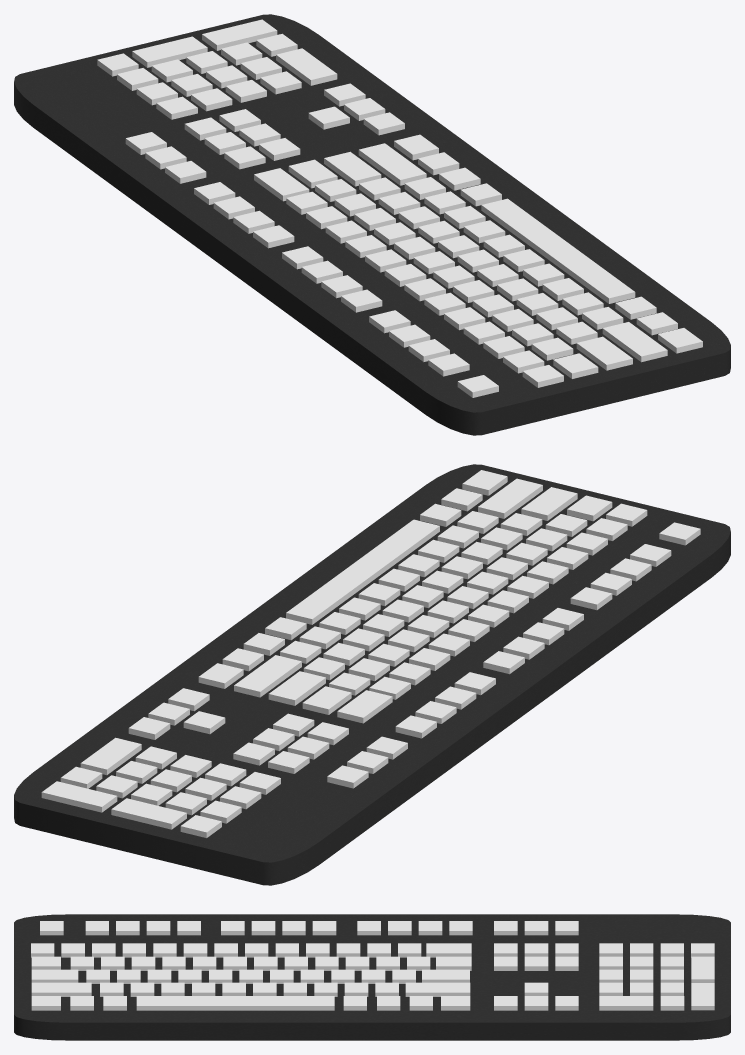
File: keyboard.obj
3 renders of one model, top to bottom at view 1: azimuth 30°, elevation 25°; view 2: azimuth 150°, elevation 25°; view 3: azimuth 270°, elevation 25°, orthographic. The views are drawn at different scales.
Parts seen in each view (by area): view 1: keyboard; view 2: keyboard; view 3: keyboard.
Boxes of the visible parts, x1,y1,x2,y2 form: keyboard: [14, 14, 730, 435]; keyboard: [14, 464, 730, 885]; keyboard: [14, 914, 730, 1040].
Size of the model in its own units: 0.1657 by 0.0159 by 0.4638.
